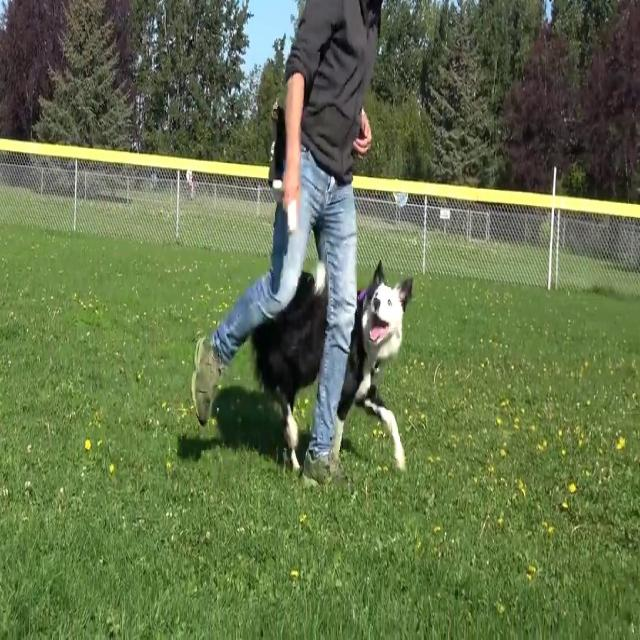Unleashed_Dog: (251, 259, 414, 470)
